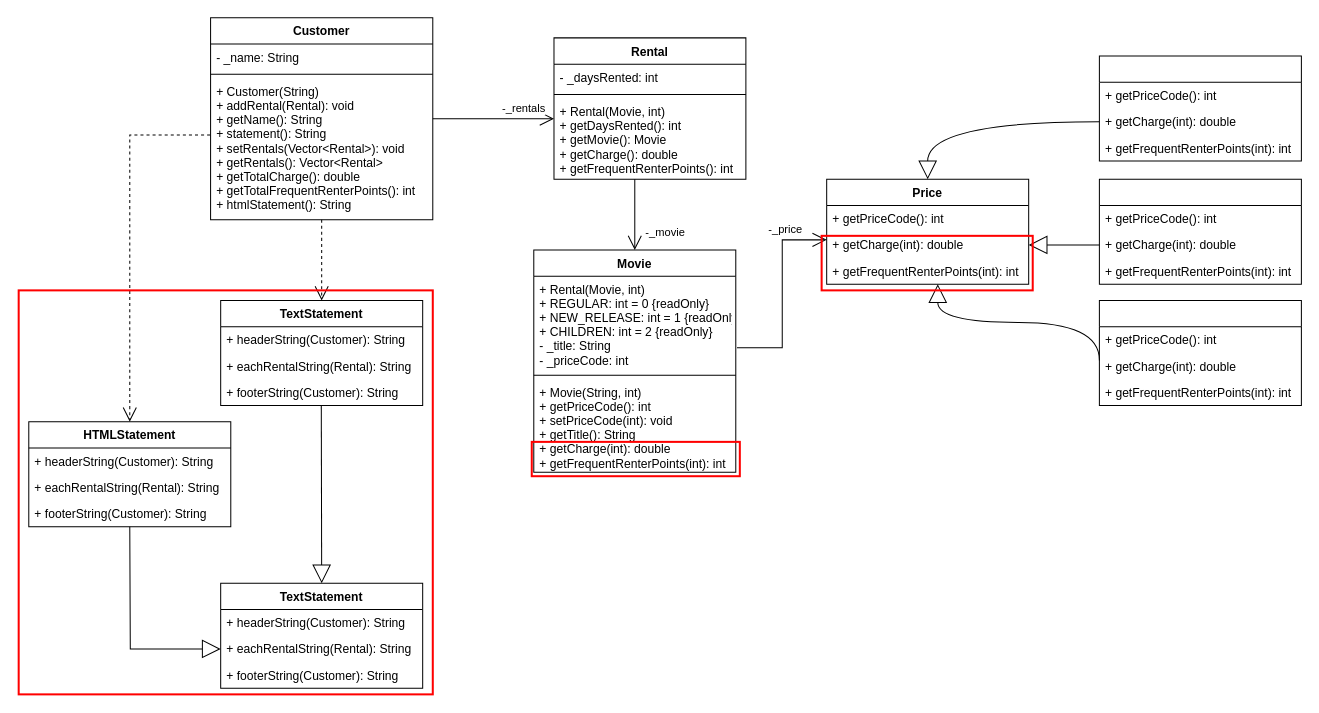
The diagram is 1319 pixels wide and 713 high, and some of its shapes have lost their labels. The shapes that lost their labels are listed below. From the top down, each one's box as (x1, y1, x2, y2) in pixels, then its label:
(1098, 55, 1301, 161): ChildrenPrice
(1098, 178, 1301, 284): RegularPrice
(1098, 299, 1301, 406): NewReleasePrice
